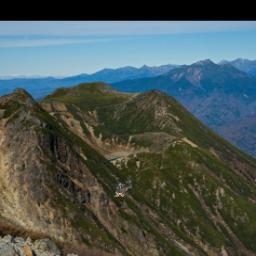Woodpecker: (112, 176, 132, 198)
